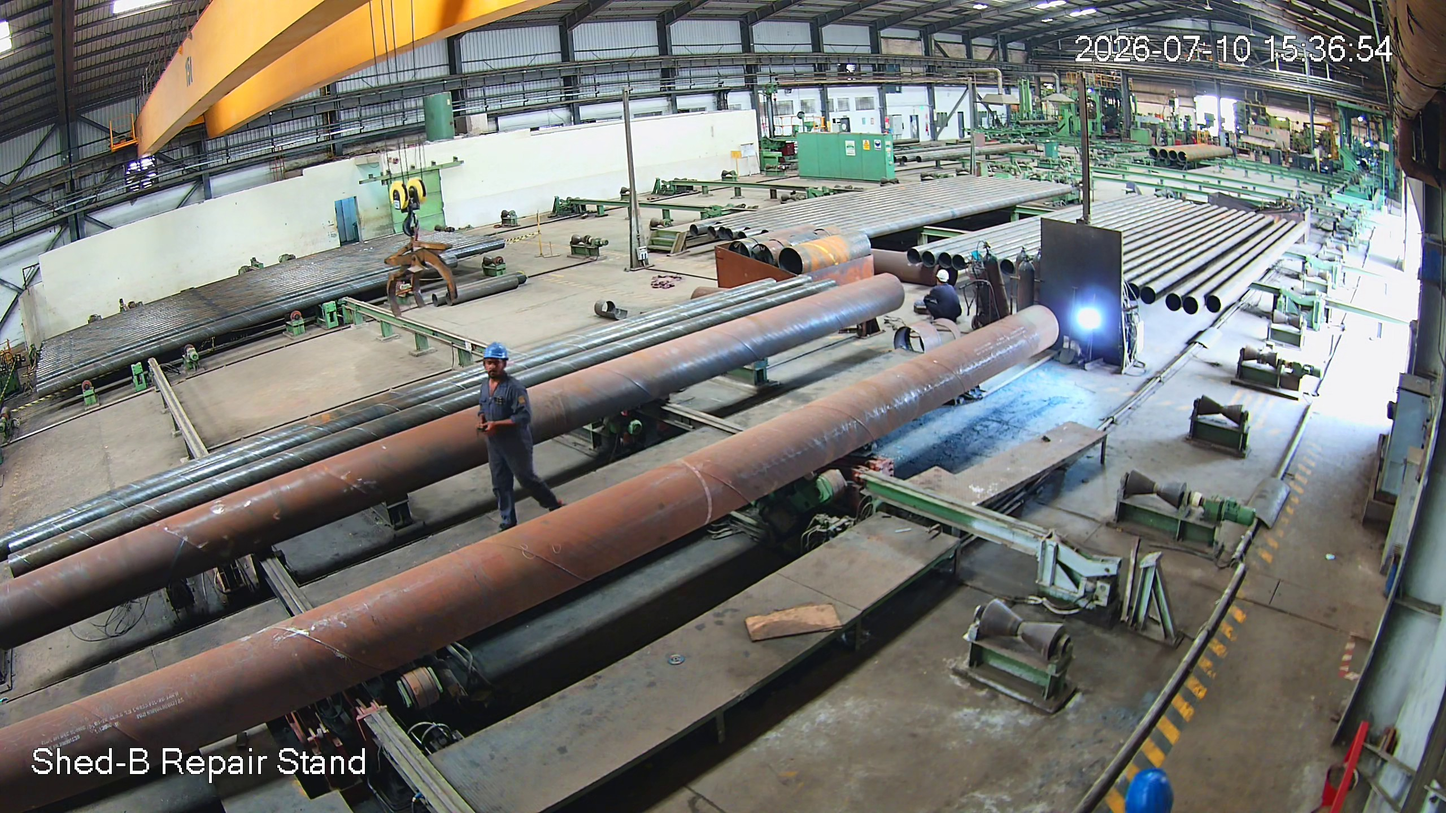Helmet: (475, 337, 522, 388), (930, 267, 960, 290)
Person: (472, 344, 567, 526), (917, 269, 966, 326)
